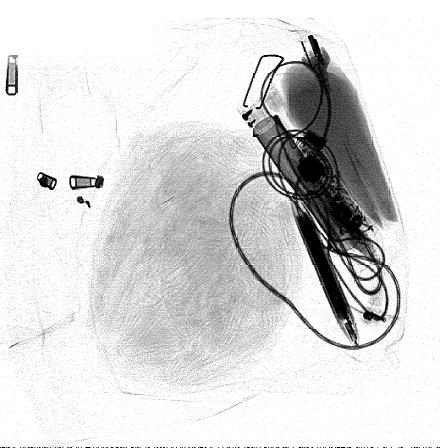Powerbank: (289, 197, 362, 347)
